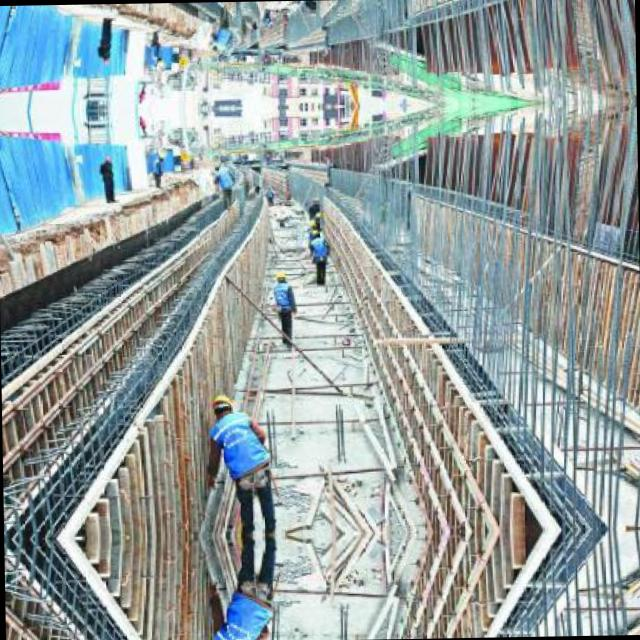helmet: (205, 390, 235, 420), (274, 266, 287, 279)
